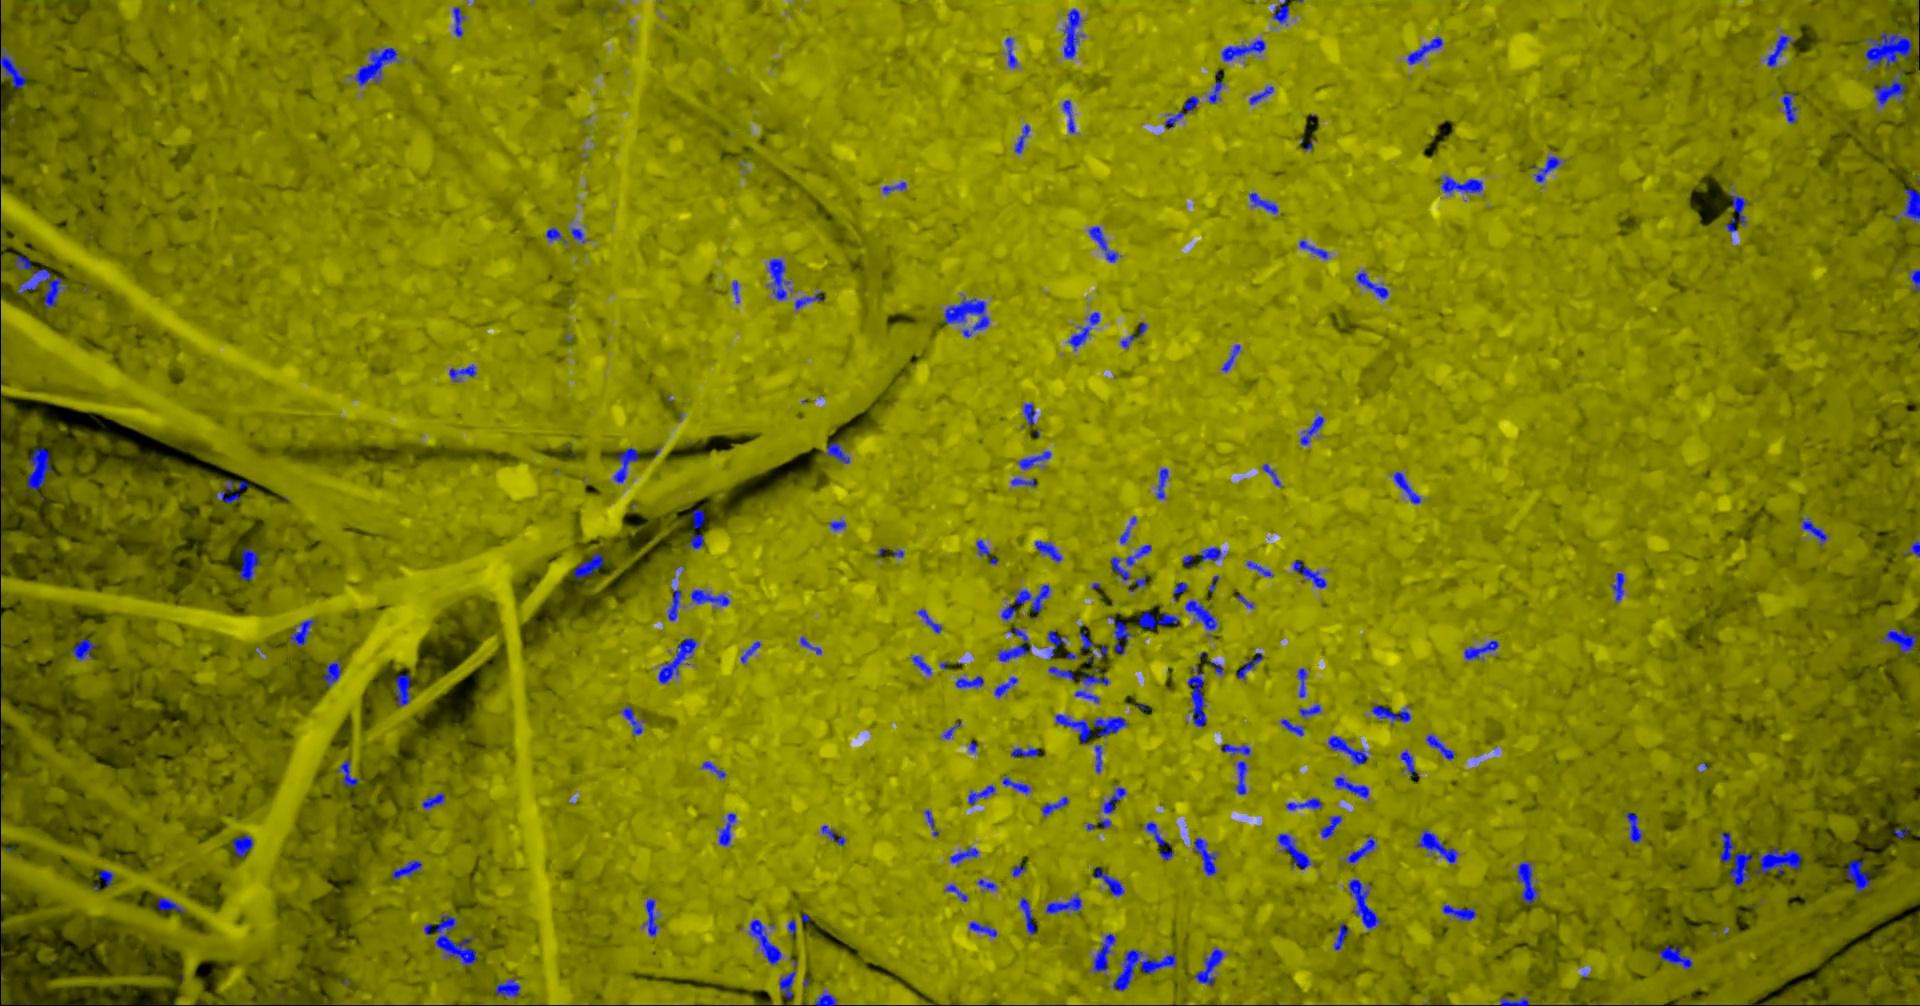ant: (1114, 948, 1178, 991), (425, 915, 477, 967), (19, 268, 69, 307), (945, 295, 990, 337), (1721, 829, 1754, 887), (659, 636, 698, 683), (356, 47, 400, 85), (1349, 878, 1382, 929), (1111, 544, 1153, 580), (1417, 828, 1460, 862), (750, 920, 783, 964), (1755, 846, 1802, 875), (1, 37, 27, 88), (1277, 833, 1313, 869), (1069, 311, 1101, 351), (1164, 95, 1200, 130), (1090, 225, 1123, 262), (1144, 821, 1175, 860), (1874, 70, 1907, 105), (1189, 666, 1208, 727), (1195, 948, 1225, 986), (1330, 735, 1370, 763), (998, 627, 1032, 661), (28, 447, 55, 489), (1064, 8, 1084, 58), (1057, 714, 1093, 742), (1517, 861, 1542, 903), (1186, 600, 1219, 630), (1294, 559, 1328, 588), (1408, 36, 1444, 64), (1016, 584, 1051, 612), (1222, 39, 1267, 61), (1726, 193, 1751, 231), (1768, 34, 1796, 69), (770, 258, 792, 300), (1357, 271, 1390, 298), (1093, 868, 1126, 895), (1095, 932, 1117, 972), (1394, 471, 1422, 503), (615, 447, 640, 481), (1195, 837, 1218, 875), (1345, 836, 1377, 862), (1883, 629, 1917, 653), (1848, 859, 1872, 893), (1660, 945, 1694, 969), (1140, 611, 1181, 631), (1110, 616, 1131, 654), (1443, 175, 1484, 194), (575, 551, 604, 578), (1427, 733, 1457, 760), (291, 619, 317, 647), (780, 956, 797, 998), (218, 479, 249, 503), (1371, 704, 1412, 721), (1335, 776, 1370, 796), (1048, 893, 1083, 913), (1535, 155, 1562, 182), (1238, 652, 1263, 680), (1302, 415, 1326, 445), (1465, 640, 1500, 661), (622, 705, 645, 735), (1803, 517, 1829, 544), (1095, 716, 1130, 735), (240, 547, 260, 580), (72, 638, 102, 661), (1250, 192, 1280, 213), (692, 589, 731, 606), (644, 897, 660, 936), (392, 859, 424, 879), (338, 760, 362, 786), (1103, 786, 1128, 813), (1020, 450, 1053, 469), (1021, 895, 1037, 934), (1903, 187, 1920, 224), (1782, 91, 1801, 123), (1625, 810, 1644, 842), (1443, 904, 1478, 921), (919, 608, 943, 633), (1036, 540, 1063, 561), (969, 784, 996, 805), (1004, 774, 1032, 794), (720, 812, 737, 846), (1300, 240, 1330, 259), (1048, 630, 1067, 659), (324, 658, 343, 687), (827, 441, 851, 464), (822, 824, 847, 846), (1081, 667, 1111, 685), (1223, 344, 1242, 372), (1043, 796, 1070, 815), (951, 846, 980, 864), (497, 977, 522, 997), (1209, 72, 1225, 103), (1079, 633, 1096, 663), (396, 673, 411, 706), (1015, 124, 1032, 152), (796, 291, 824, 309), (1288, 796, 1323, 810), (996, 676, 1018, 697), (234, 833, 254, 857), (1250, 85, 1275, 104), (1322, 815, 1343, 837), (94, 869, 116, 890), (1263, 464, 1284, 486), (742, 640, 762, 663), (450, 365, 477, 381), (1121, 514, 1138, 542), (1402, 749, 1418, 777), (970, 920, 998, 936), (1335, 922, 1351, 950), (669, 588, 683, 620), (1236, 760, 1248, 794), (703, 761, 728, 779), (1611, 572, 1625, 602), (157, 897, 185, 912), (1248, 560, 1275, 575), (1049, 666, 1076, 681), (1283, 718, 1305, 735), (1006, 37, 1018, 69), (1274, 0, 1290, 24), (423, 791, 447, 808), (1064, 99, 1076, 133), (1157, 467, 1170, 498), (913, 655, 933, 674), (1222, 743, 1252, 756), (801, 636, 823, 654), (946, 884, 969, 901), (926, 809, 940, 836), (1199, 546, 1223, 561), (1012, 747, 1048, 757), (957, 674, 985, 687), (1076, 688, 1101, 702), (455, 6, 466, 37), (1298, 667, 1309, 697), (1023, 401, 1037, 426), (547, 226, 568, 243), (1903, 539, 1920, 558), (943, 721, 963, 738), (884, 180, 908, 193), (1300, 702, 1322, 716), (1502, 995, 1531, 1005), (817, 992, 839, 1005), (1175, 580, 1189, 601), (1088, 818, 1112, 829), (17, 254, 33, 271), (687, 533, 705, 549), (977, 539, 992, 556), (1130, 575, 1148, 591), (978, 878, 998, 890), (1238, 593, 1255, 608), (1910, 268, 1920, 291), (1123, 333, 1138, 348), (695, 508, 706, 528), (1012, 478, 1037, 486), (1096, 744, 1103, 774), (571, 227, 585, 243), (1002, 605, 1016, 620), (1013, 861, 1027, 876), (733, 279, 742, 302), (789, 918, 797, 937), (830, 520, 847, 530)
